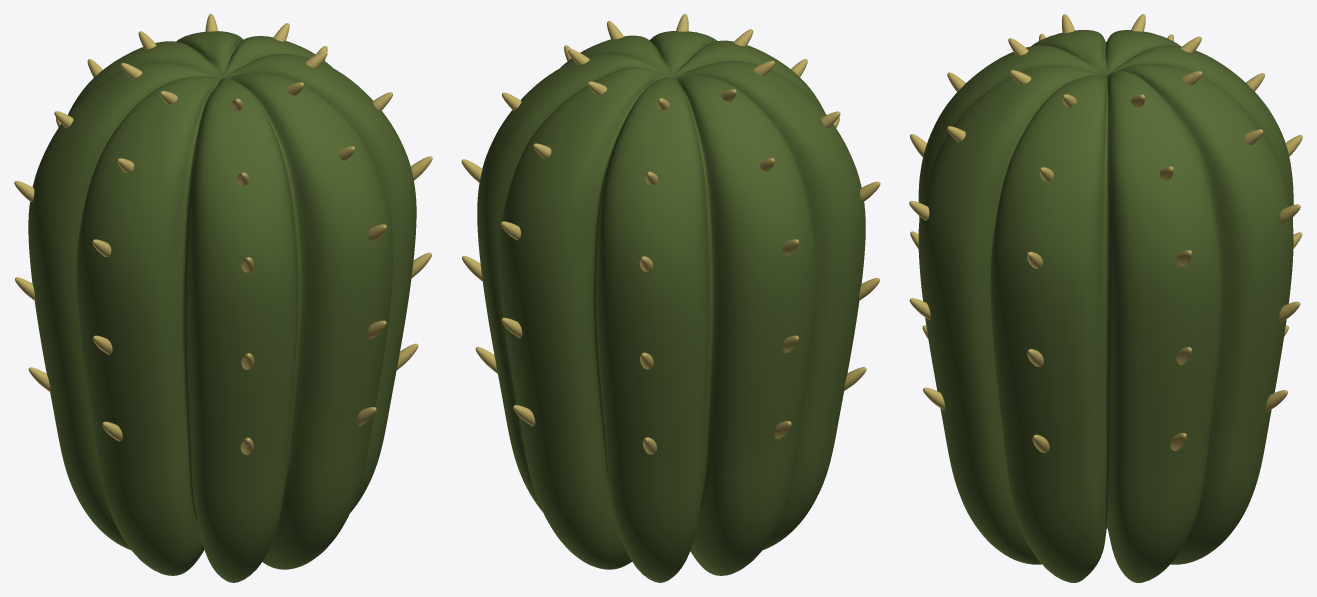
The model's file is cactus.glb.
3 views of the same model, side by side, from view 1: azimuth 30°, elevation 25°; view 2: azimuth 150°, elevation 25°; view 3: azimuth 270°, elevation 25° (orthographic).
Parts seen in each view (by area): view 1: Base, Spikes; view 2: Base, Spikes; view 3: Base, Spikes.
Boxes of the visible parts, x1=… form: Base: x1=28, y1=31, x2=416, y2=582; Spikes: x1=14, y1=14, x2=432, y2=454; Base: x1=477, y1=31, x2=865, y2=582; Spikes: x1=461, y1=14, x2=880, y2=454; Base: x1=918, y1=30, x2=1293, y2=582; Spikes: x1=909, y1=14, x2=1302, y2=452.
Bounding box in the file's own units: 0.4608 × 0.6382 × 0.4562.
